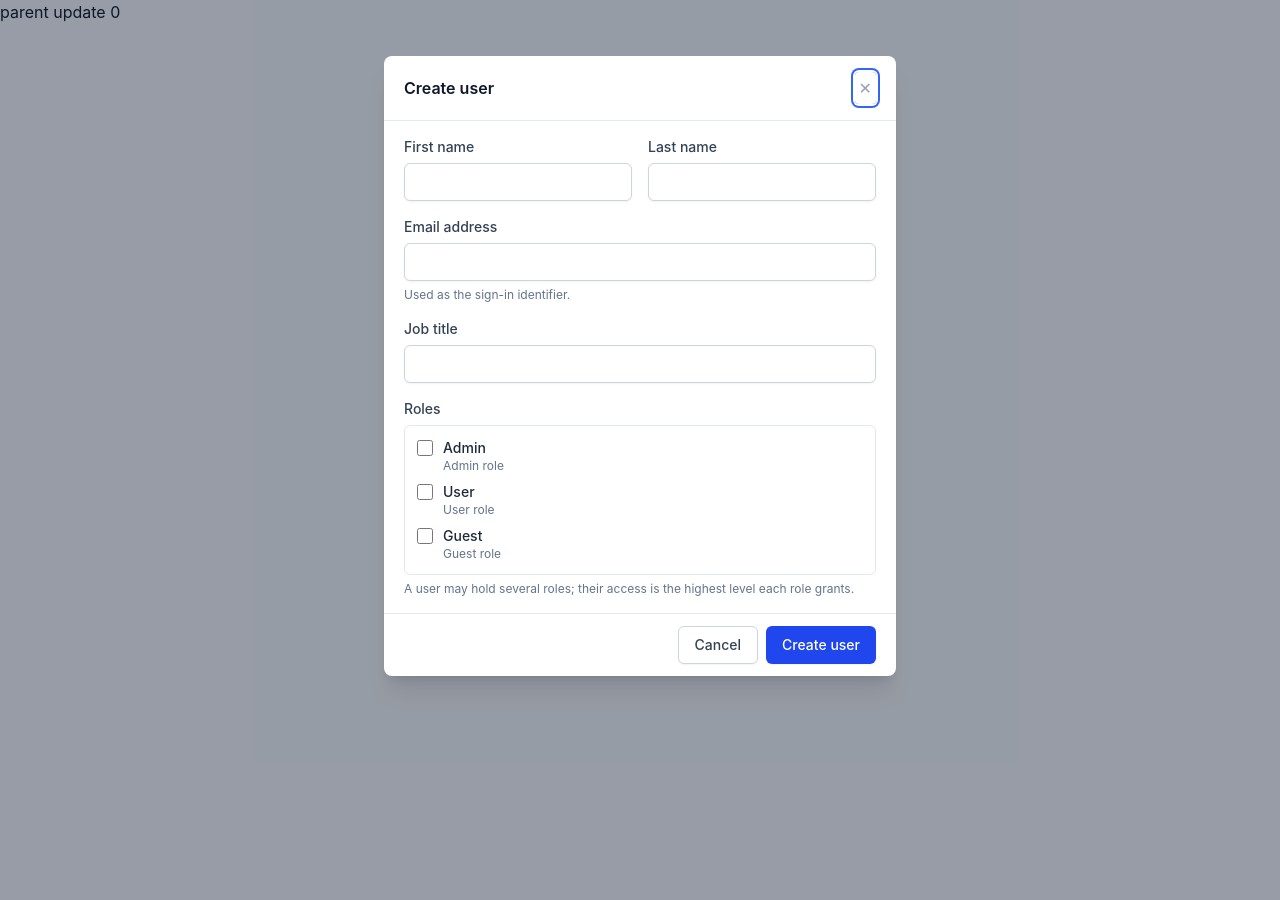
Test: CreateUserDialog › stays open until the user explicitly cancels
Step 1. Type "Ada" into the field labelled "First name" → (518, 182), box [404,163,632,201]
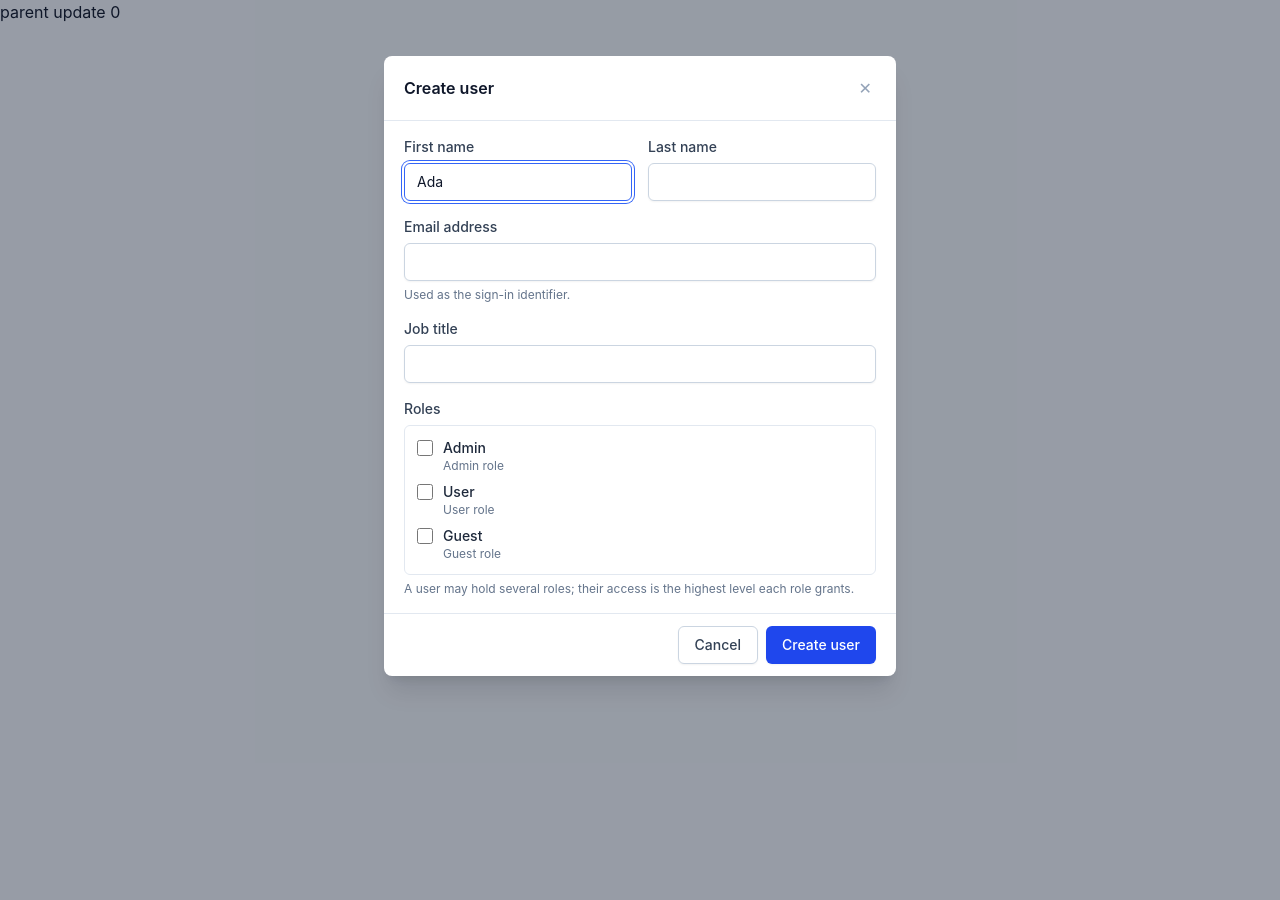
Expected: the dialog is shown, [384,56,896,676]
Step 2. Click the button "Cancel" → (718, 645), box [678,626,758,664]
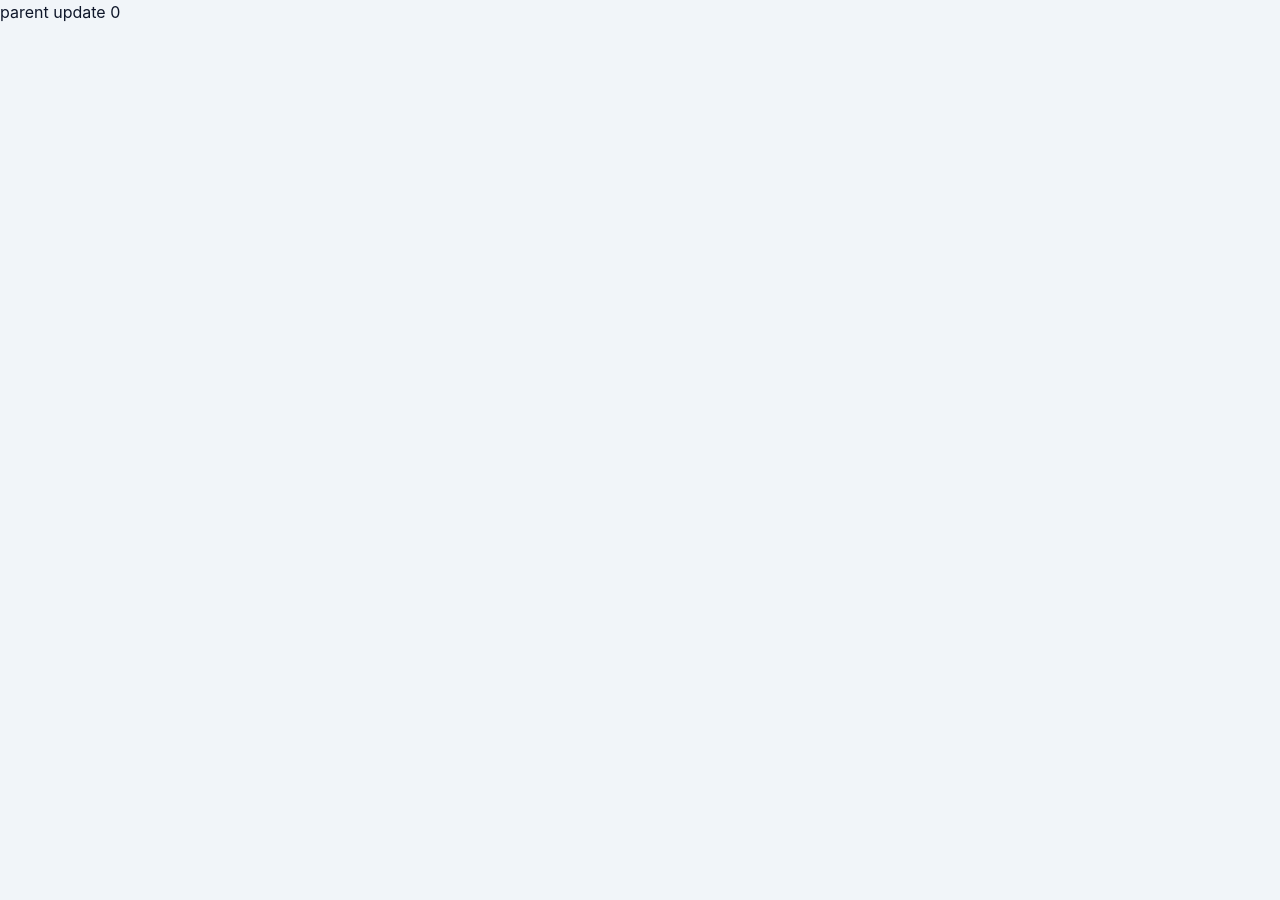
Expected: the dialog is gone
